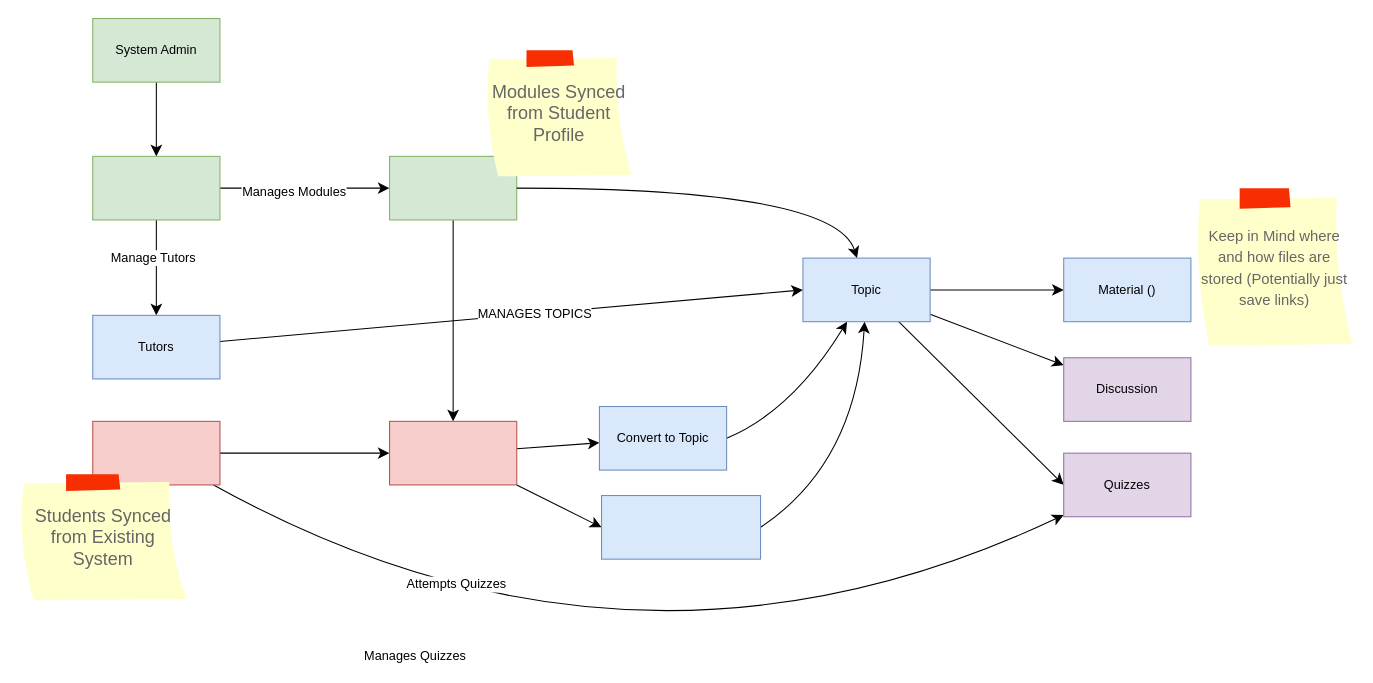
This 1373x683 diagram has some shape labels left out. The box of each missing label's shape, as (x1, y1, x2, y2) in pixels:
Admins/Lecturers: (92, 155, 220, 220)
Link To Existing Topic: (600, 494, 761, 559)
Module: (388, 155, 517, 220)
Query/Question: (388, 420, 517, 485)
Students: (92, 420, 220, 485)
